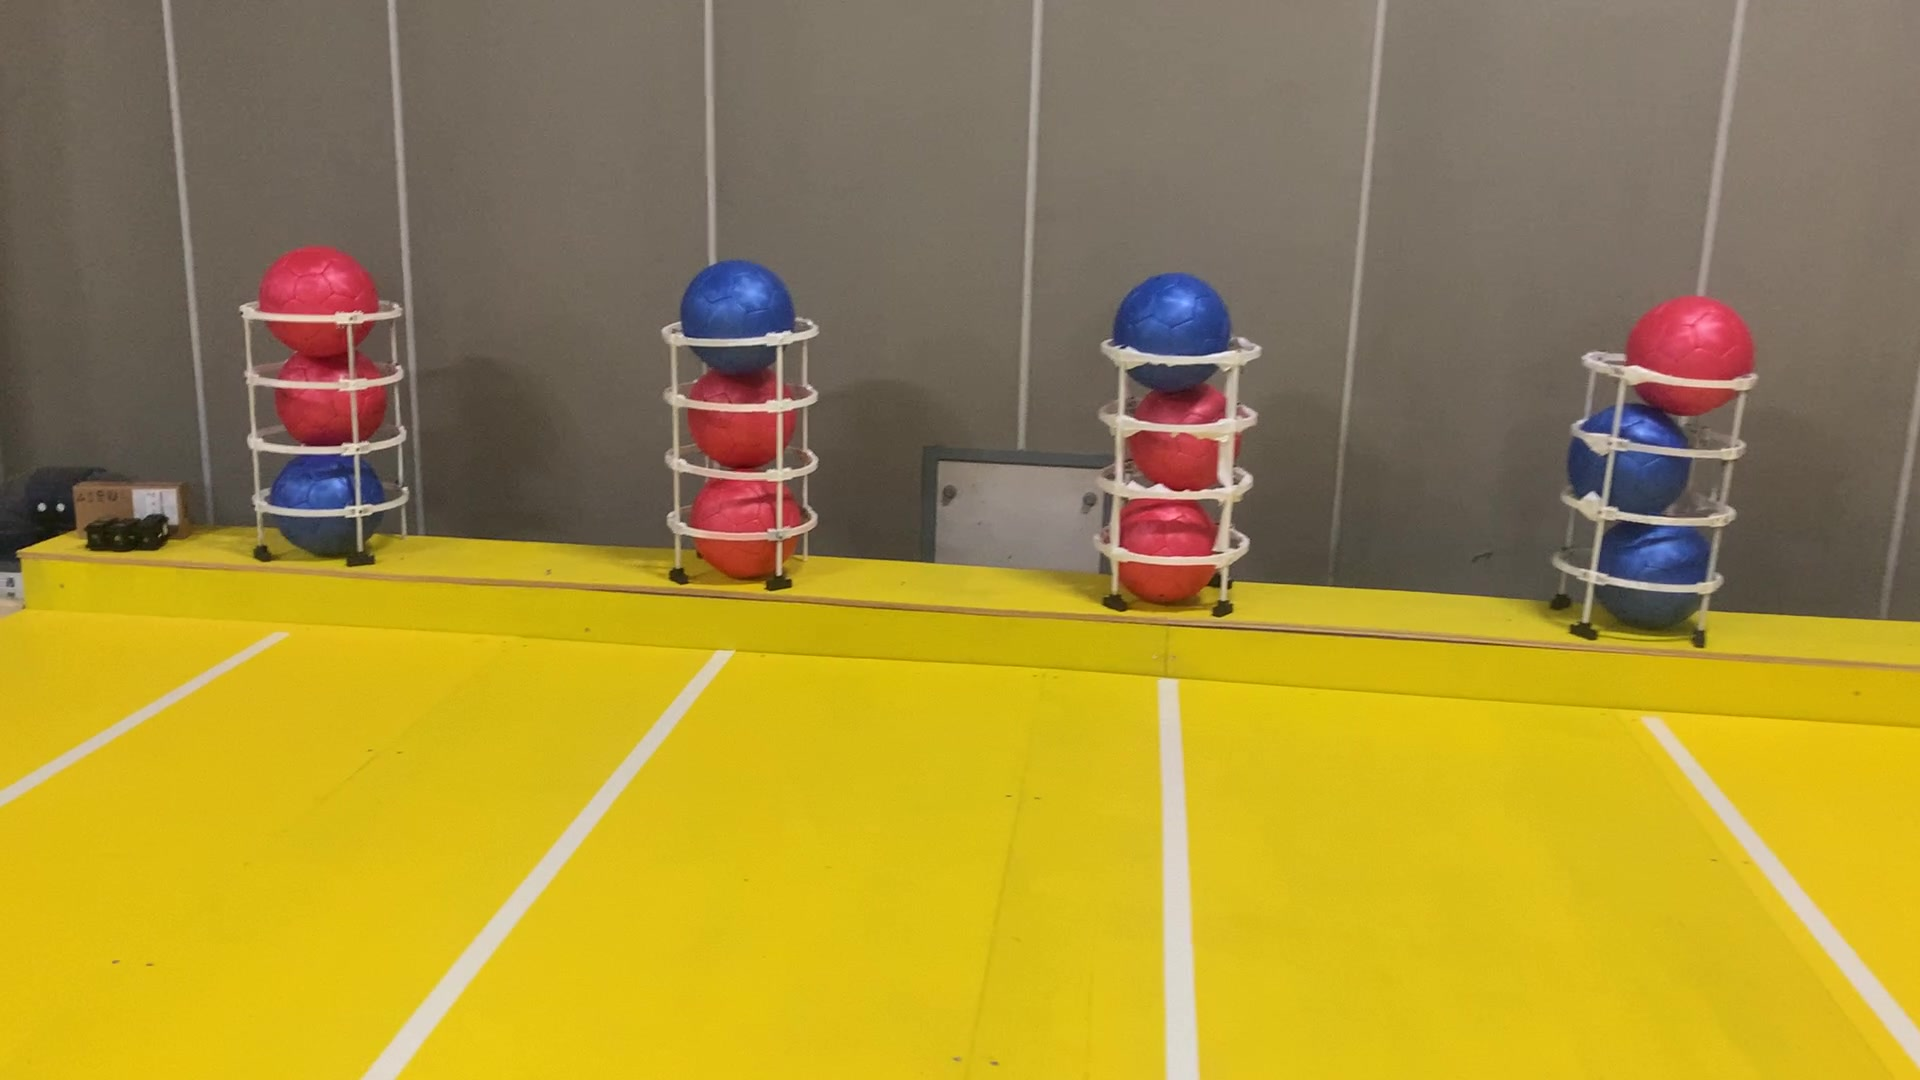blue: (1097, 266, 1240, 389), (1559, 401, 1697, 526), (1590, 505, 1720, 634), (675, 252, 807, 376), (273, 452, 385, 555)
red: (1622, 289, 1760, 423), (684, 462, 806, 587), (252, 241, 380, 360), (1120, 380, 1242, 498), (1101, 492, 1224, 605), (280, 339, 398, 452), (684, 361, 806, 471)
